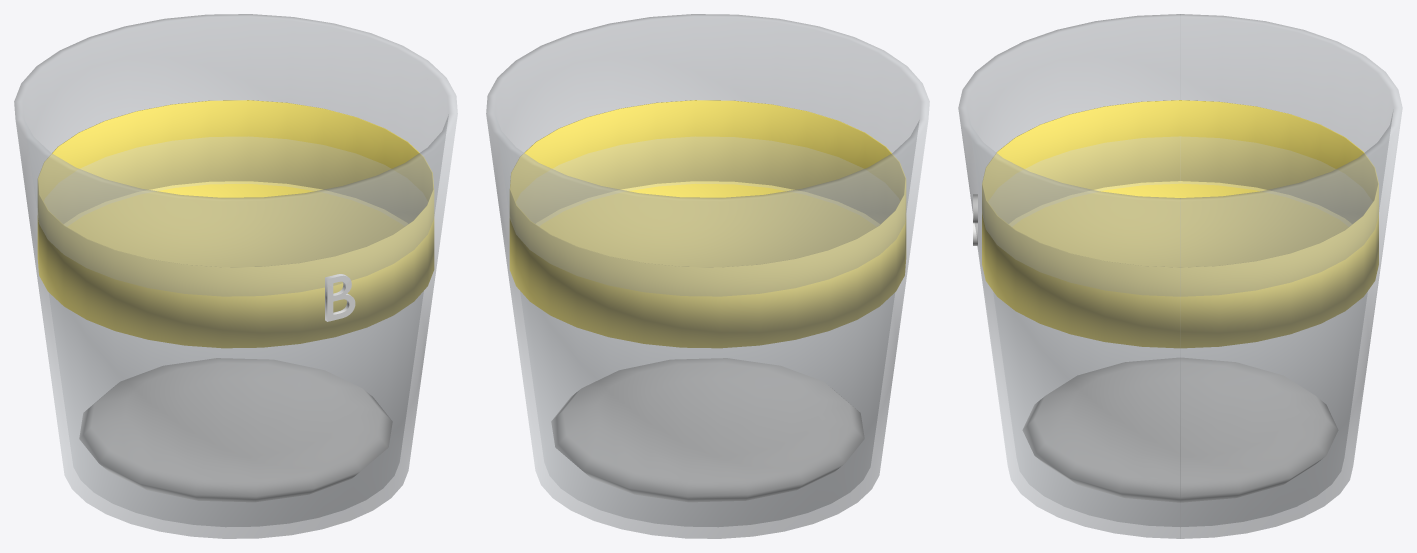
The model's file is cup_B.glb.
3 renders of one model, left to right at view 1: azimuth 30°, elevation 25°; view 2: azimuth 150°, elevation 25°; view 3: azimuth 270°, elevation 25°, orthographic.
Visible parts, largest first — view 1: cupB_body, cupB_label, cotton, cupB_letter; view 2: cupB_body, cupB_label, cotton; view 3: cupB_body, cupB_label, cotton.
Part boxes in pixels (x1,y1,x2,y2): cupB_body: [14, 14, 457, 538]; cupB_label: [37, 100, 434, 348]; cotton: [79, 358, 392, 502]; cupB_letter: [325, 274, 355, 321]; cupB_body: [486, 14, 929, 538]; cupB_label: [509, 100, 906, 348]; cotton: [551, 358, 864, 502]; cupB_body: [958, 14, 1402, 538]; cupB_label: [982, 100, 1378, 348]; cotton: [1022, 357, 1338, 502].
Bounding box in the file's own units: 0.09 × 0.08 × 0.09.
